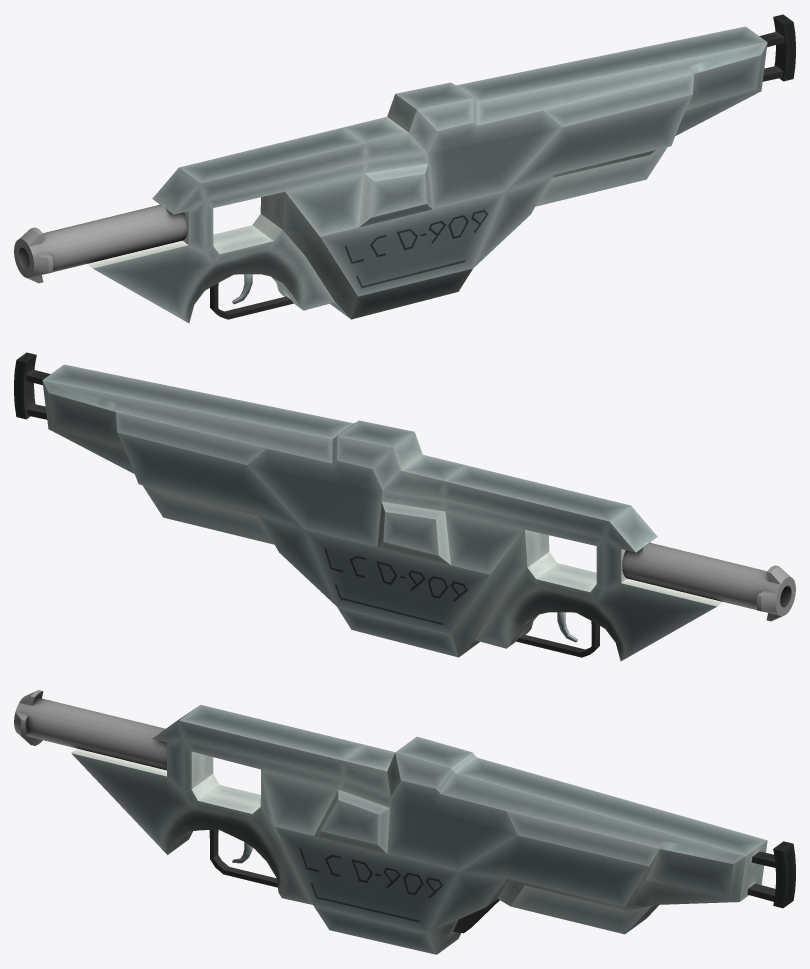
Rendered from LCD-909 Laser Gun.fbx.
3 renders of one model, top to bottom at view 1: azimuth 30°, elevation 25°; view 2: azimuth 150°, elevation 25°; view 3: azimuth 330°, elevation 25°, orthographic.
Parts seen in each view (by area): view 1: LCD-909, Barrel; view 2: LCD-909, Barrel; view 3: LCD-909, Barrel.
Boxes of the visible parts, x1,y1,x2,y2 form: LCD-909: (87,14,795,323); Barrel: (14,204,187,283); LCD-909: (14,352,722,661); Barrel: (622,542,795,621); LCD-909: (71,704,795,954); Barrel: (14,690,166,770).
Bounding box in the file's own units: 9.37 × 2.26 × 1.07.
3 materials, 3 textured.
